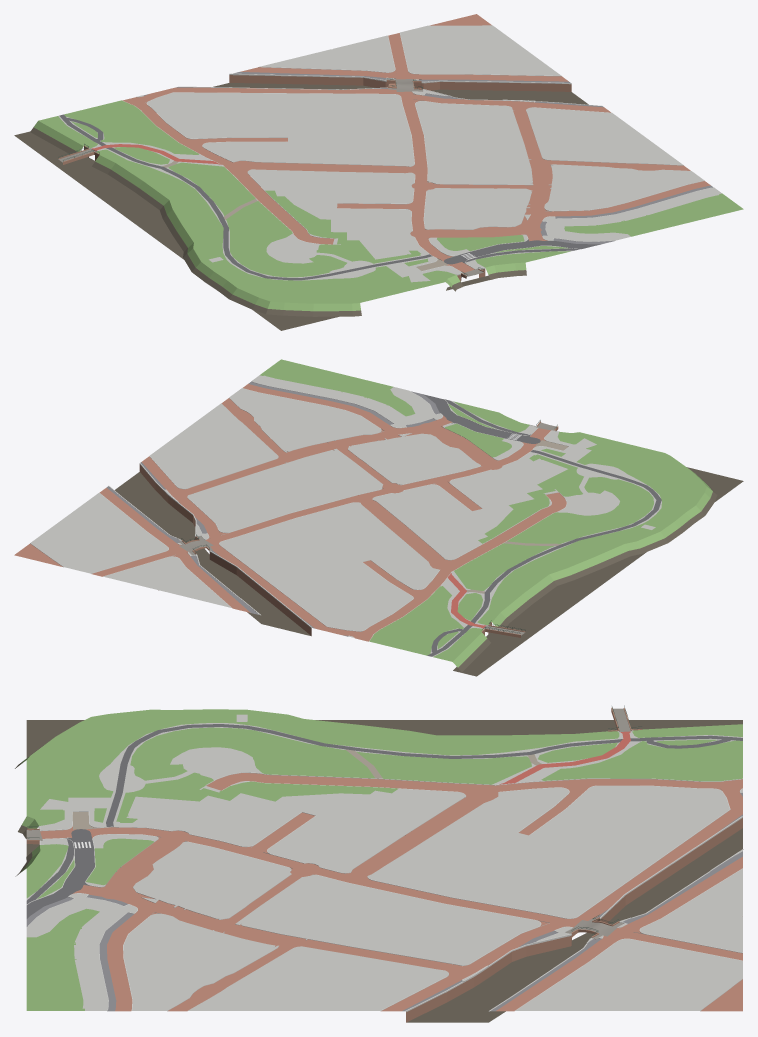
File: ground_7_10.glb
3 renders of one model, top to bottom at view 1: azimuth 30°, elevation 25°; view 2: azimuth 150°, elevation 25°; view 3: azimuth 270°, elevation 25°, orthographic. The views are drawn at different scales.
Visible parts, largest first — view 1: ground_7_10; view 2: ground_7_10; view 3: ground_7_10.
Boxes of the visible parts, x1,y1,x2,y2 form: ground_7_10: [14, 14, 743, 330]; ground_7_10: [14, 359, 743, 676]; ground_7_10: [15, 705, 743, 1022].
Bounding box in the file's own units: 203 × 5.01 × 204.
